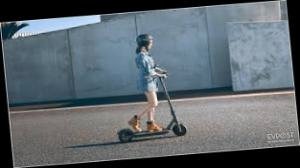helmet: (106, 29, 190, 144)
